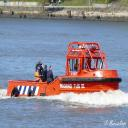tugboat: (5, 41, 124, 102)
